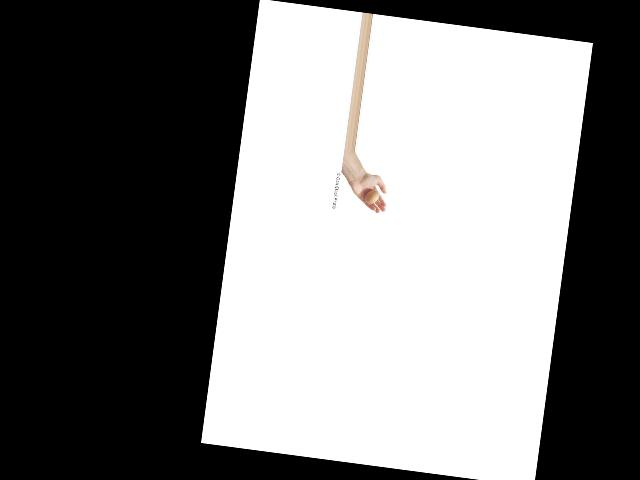egg: (364, 190, 379, 205)
